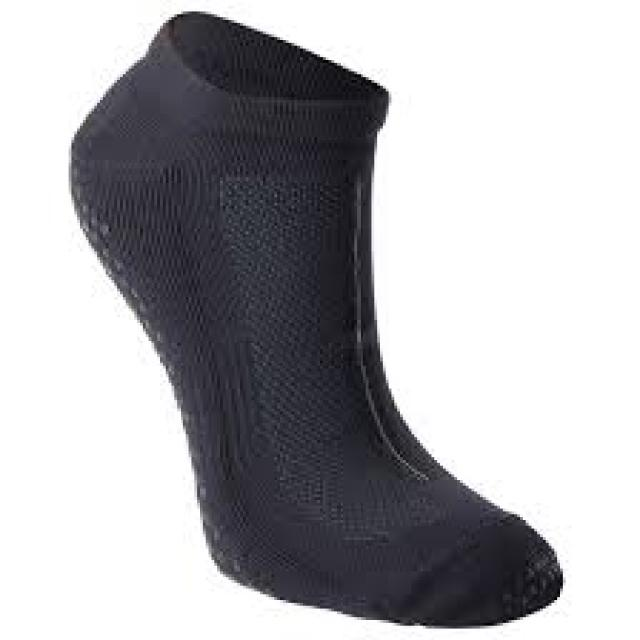sock: (66, 9, 563, 628)
